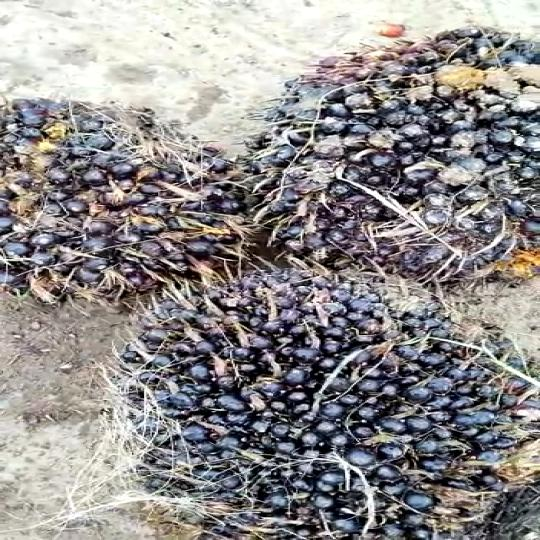mentah: (91, 268, 540, 536), (253, 21, 540, 286), (0, 87, 270, 303)
